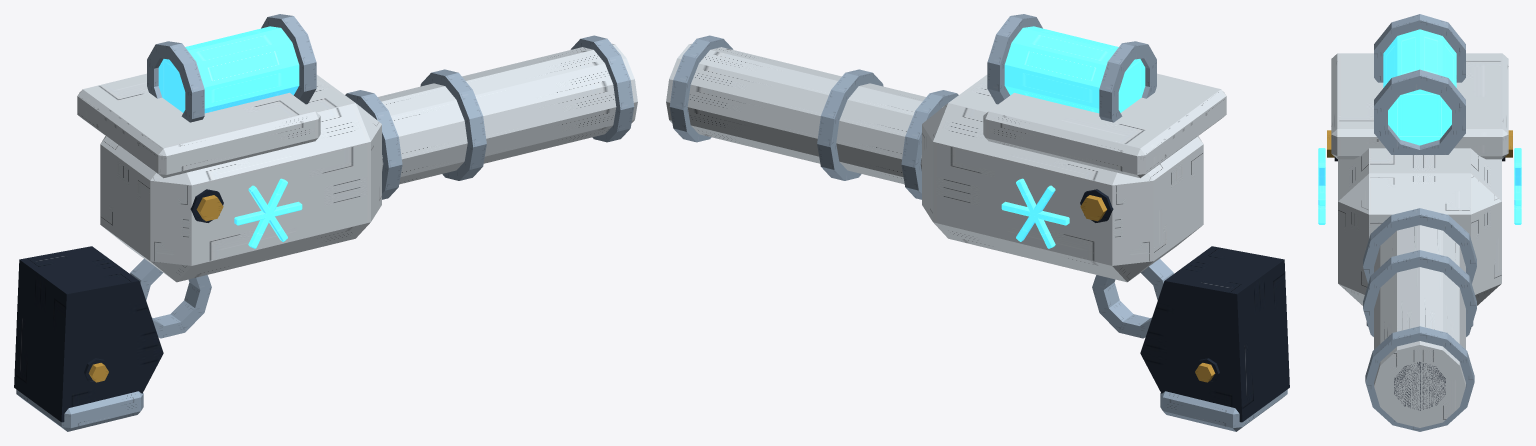
File: frostgun.glb
3 views of the same model, side by side, from view 1: azimuth 30°, elevation 25°; view 2: azimuth 150°, elevation 25°; view 3: azimuth 270°, elevation 25° (orthographic).
Visible parts, largest first — view 1: body, barrel, grip, core; view 2: body, barrel, grip, core; view 3: body, barrel, core.
Boxes of the visible parts, x1,y1,x2,y2 form: body: (77, 73, 381, 338); barrel: (345, 35, 637, 199); grip: (14, 246, 163, 431); core: (147, 14, 316, 122); body: (922, 73, 1226, 338); barrel: (666, 35, 958, 199); grip: (1140, 246, 1289, 431); core: (987, 14, 1156, 122); body: (1318, 53, 1521, 305); barrel: (1363, 208, 1476, 431); core: (1374, 14, 1465, 154).
Bounding box in the file's own units: 0.548 × 0.307 × 0.164.
Materials: 5 (5 with a texture image).
